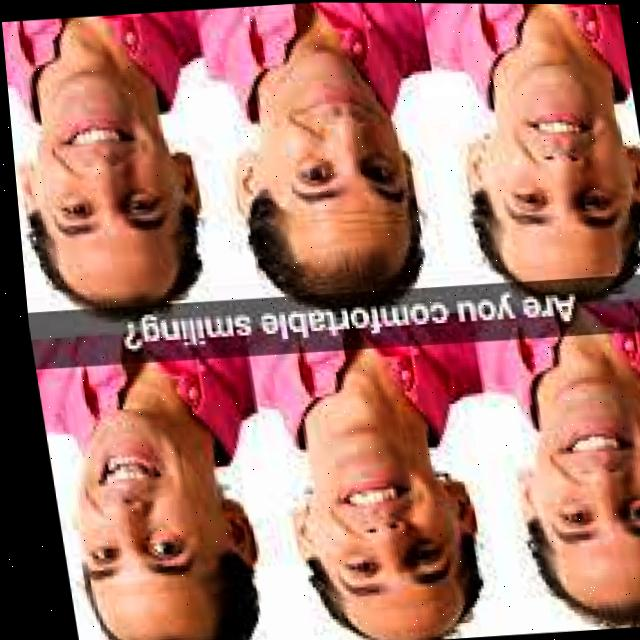happy: (500, 372, 640, 618)
